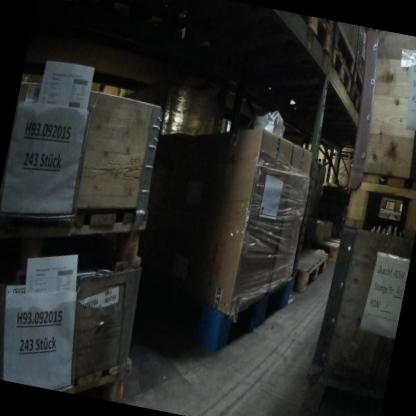pallet: (127, 242, 295, 386), (0, 176, 157, 312), (342, 160, 416, 248), (55, 347, 140, 404), (271, 12, 342, 66), (284, 242, 330, 310), (327, 45, 363, 96), (345, 79, 369, 124)
stillage: (319, 22, 361, 63), (352, 28, 379, 86)
